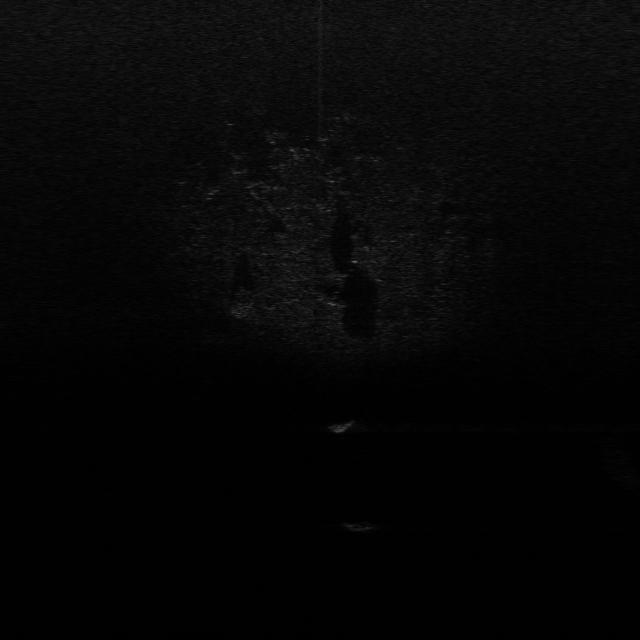cube: (343, 521, 382, 534)
square cage: (326, 416, 356, 436)
